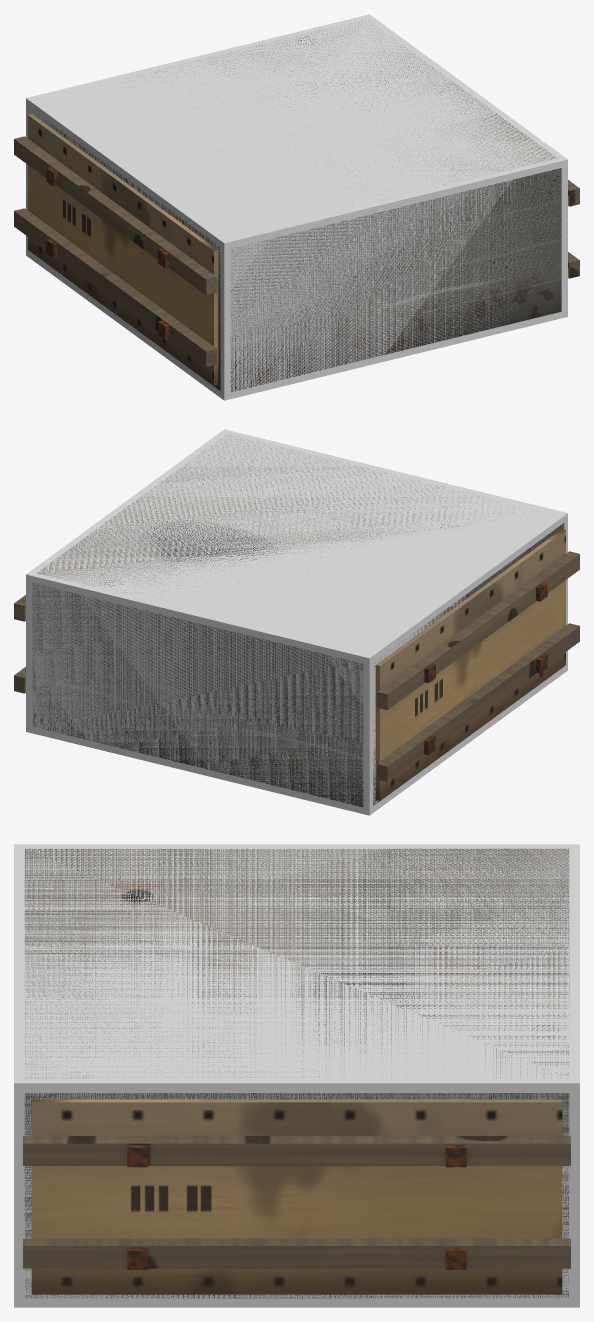
The model's file is Kit_Lot_Footing_01.glb.
3 renders of one model, top to bottom at view 1: azimuth 30°, elevation 25°; view 2: azimuth 150°, elevation 25°; view 3: azimuth 270°, elevation 25°, orthographic. The views are drawn at different scales.
Visible parts, largest first — view 1: COL_Kit_Lot_Footing_01_0, Kit_Lot_Footing_01_LOD0; view 2: COL_Kit_Lot_Footing_01_0, Kit_Lot_Footing_01_LOD0; view 3: Kit_Lot_Footing_01_LOD0, COL_Kit_Lot_Footing_01_0.
Part boxes in pixels (x1=…): COL_Kit_Lot_Footing_01_0: x1=26, y1=14, x2=567, y2=400; Kit_Lot_Footing_01_LOD0: x1=14, y1=19, x2=579, y2=392; COL_Kit_Lot_Footing_01_0: x1=26, y1=429, x2=567, y2=815; Kit_Lot_Footing_01_LOD0: x1=14, y1=434, x2=579, y2=807; Kit_Lot_Footing_01_LOD0: x1=23, y1=848, x2=570, y2=1298; COL_Kit_Lot_Footing_01_0: x1=14, y1=844, x2=579, y2=1307.
Size of what is drawn, in the model's own units: 3.56 by 1.4 by 3.2.
Materials: 1 (1 with a texture image).
